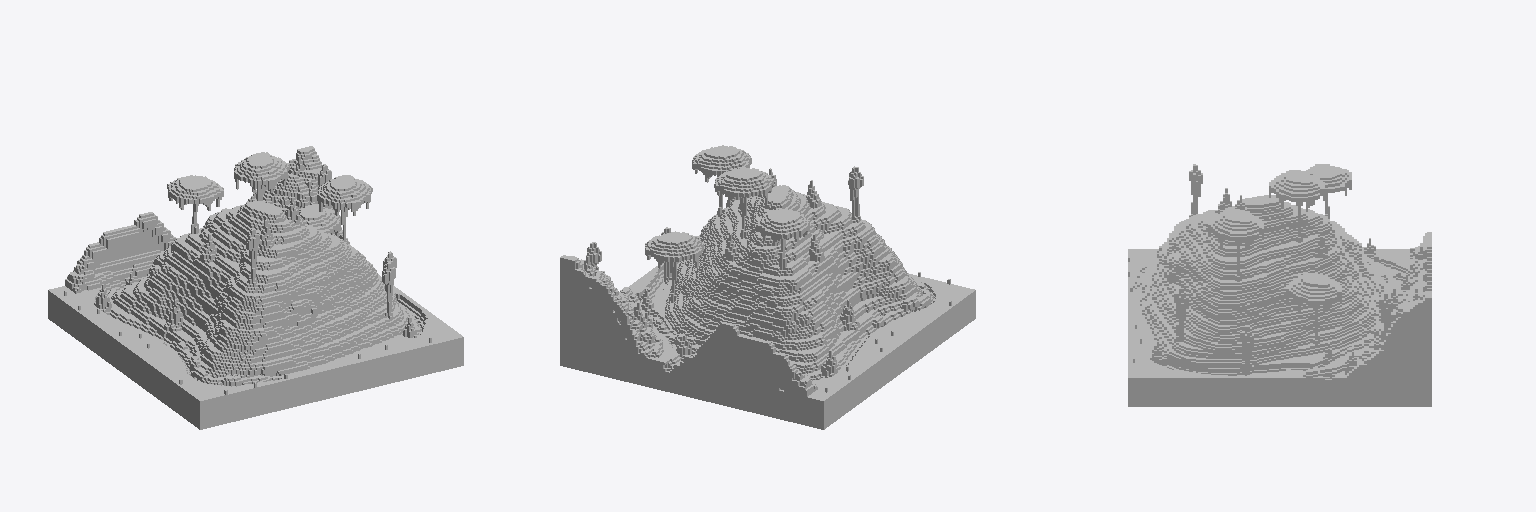
File: Map (14).obj
The picture shows the model from 3 angles: view 1: azimuth 30°, elevation 25°; view 2: azimuth 150°, elevation 25°; view 3: azimuth 270°, elevation 25°; orthographic projection.
Visible parts, largest first — view 1: ALL MAP!!!!!!!!!!!-11; view 2: ALL MAP!!!!!!!!!!!-11; view 3: ALL MAP!!!!!!!!!!!-11.
Boxes of the visible parts, <box> form: ALL MAP!!!!!!!!!!!-11: <box>48,146,463,429</box>; ALL MAP!!!!!!!!!!!-11: <box>560,145,975,429</box>; ALL MAP!!!!!!!!!!!-11: <box>1128,164,1431,406</box>.
Bounding box in the file's own units: 125 × 78 × 125.